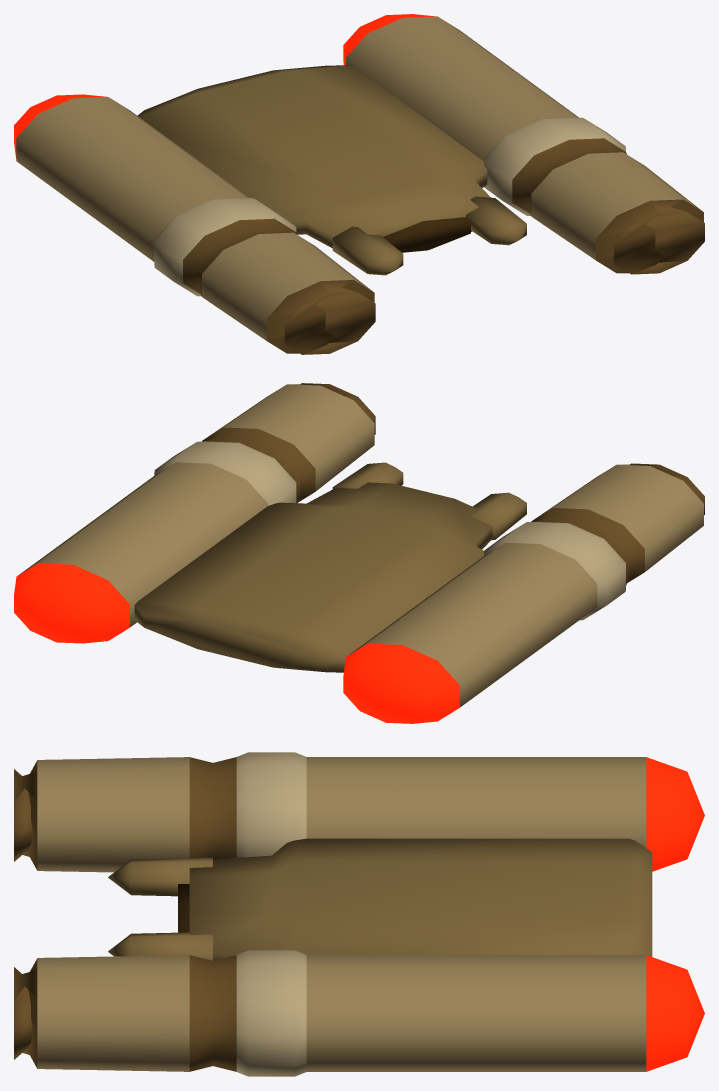
File: newsh8-19.glb
3 renders of one model, top to bottom at view 1: azimuth 30°, elevation 25°; view 2: azimuth 150°, elevation 25°; view 3: azimuth 270°, elevation 25°, orthographic. The views are drawn at different scales.
Parts seen in each view (by area): view 1: newsh8-19; view 2: newsh8-19; view 3: newsh8-19.
Boxes of the visible parts, <box> form: newsh8-19: <box>14,14,704,354</box>; newsh8-19: <box>14,383,704,723</box>; newsh8-19: <box>14,752,704,1076</box>.
Bounding box in the file's own units: 0.9149 × 0.1566 × 0.9833.
